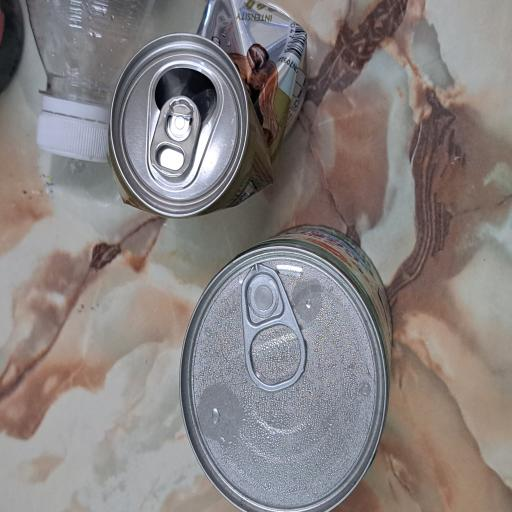can: (0, 237, 214, 512), (220, 148, 384, 410)
plastic bottle: (305, 31, 384, 207)
plastic bottle cap: (262, 48, 302, 150)
pop tab: (92, 320, 188, 406), (250, 198, 313, 270)
